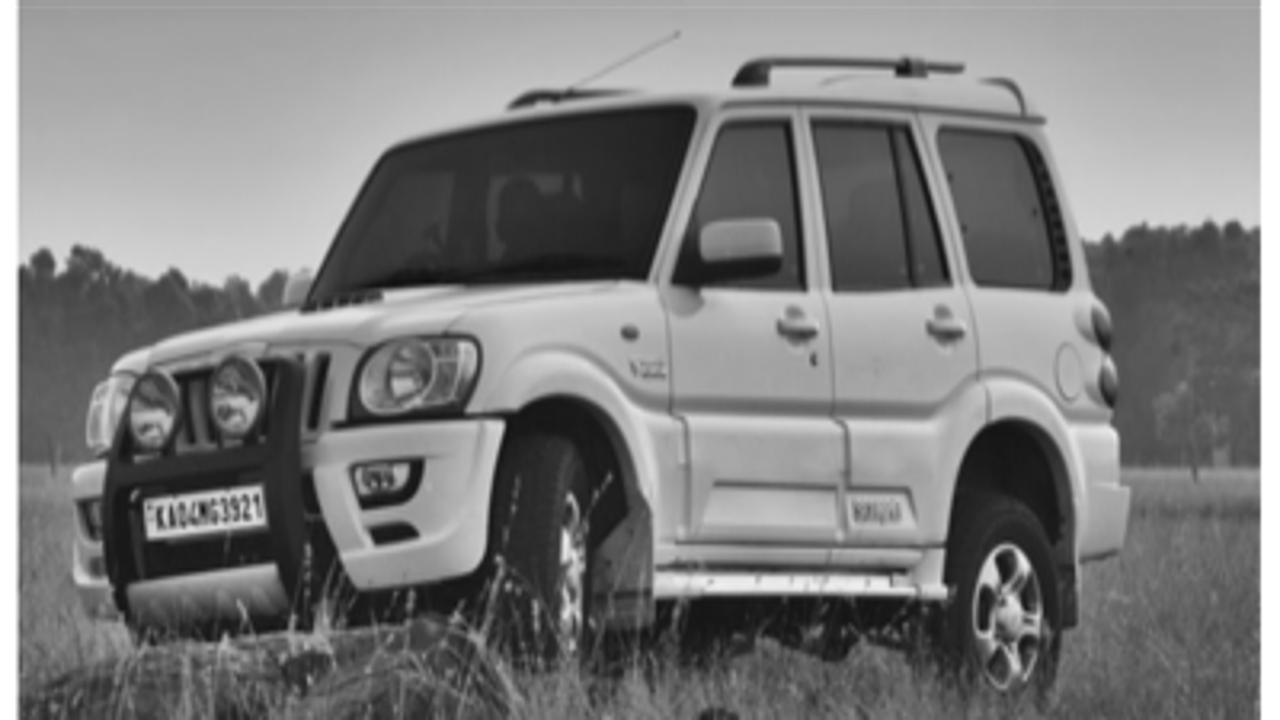license: (137, 479, 275, 541)
